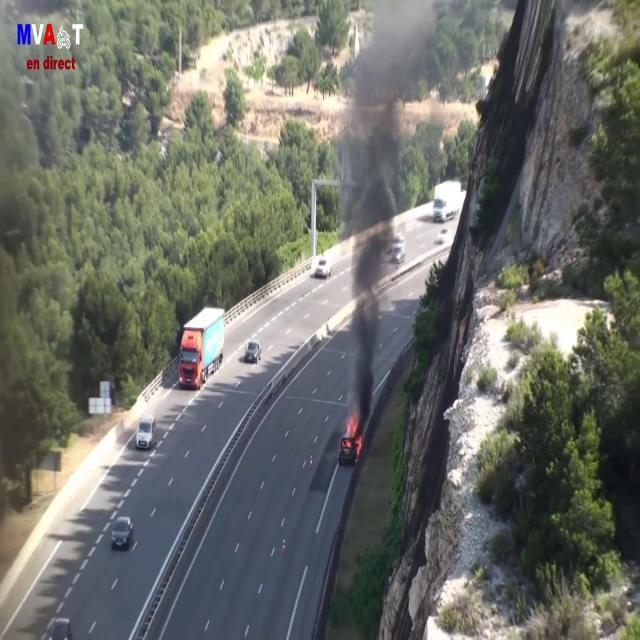Fire: (342, 408, 362, 457)
Smoke: (336, 4, 416, 409)
